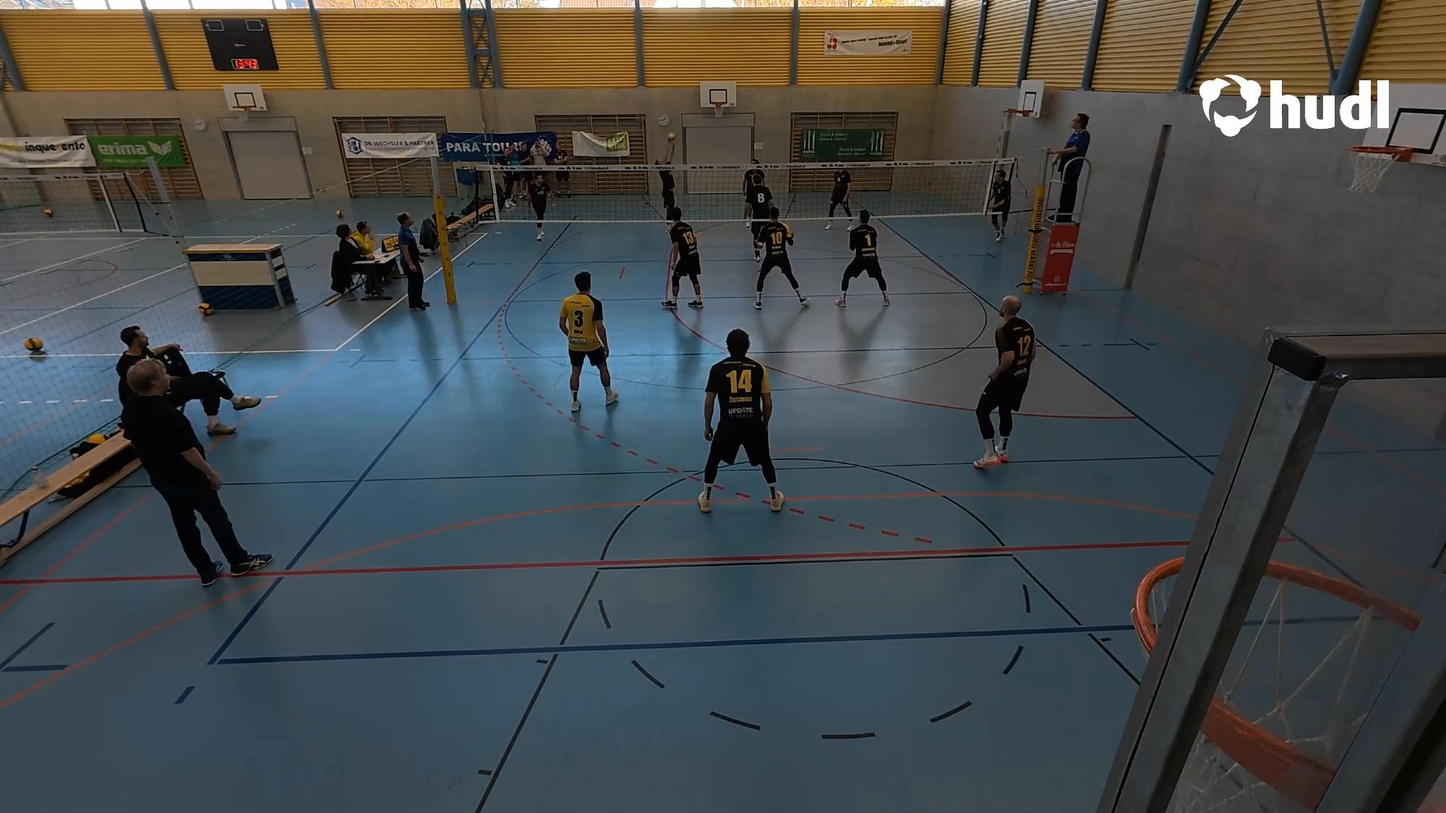Player: (698, 330, 784, 514), (973, 296, 1039, 469), (559, 273, 617, 412), (834, 207, 889, 307), (752, 214, 805, 312), (664, 216, 706, 310), (743, 185, 777, 265), (985, 166, 1011, 250), (523, 172, 554, 241), (824, 163, 856, 229), (742, 160, 771, 223)
Set: (654, 130, 683, 224)
ball: (666, 131, 678, 144)
